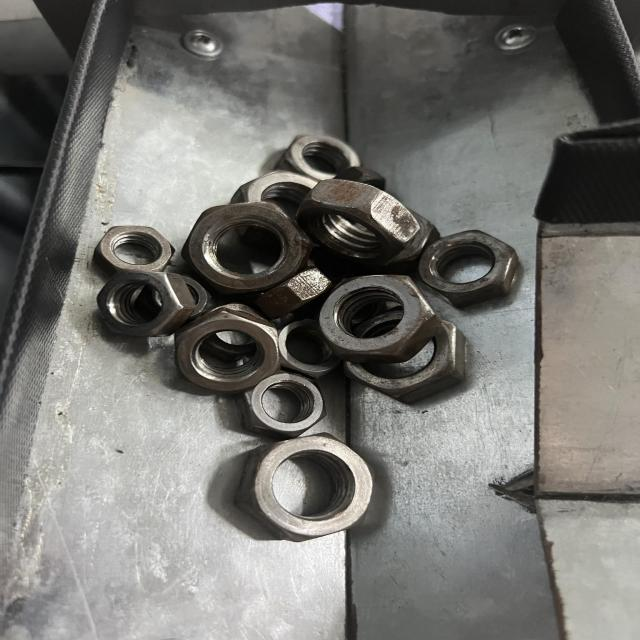nut: (234, 432, 374, 543), (319, 274, 441, 362), (418, 229, 521, 310), (176, 309, 275, 393), (97, 270, 193, 340)
